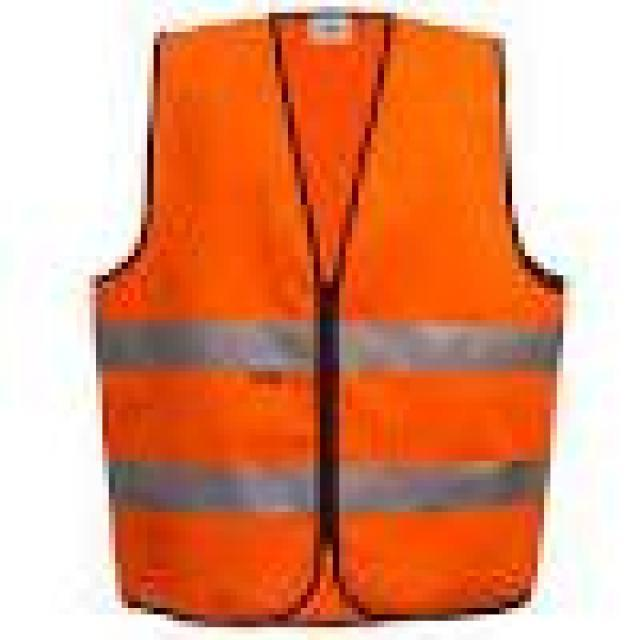reflective_jacket: (31, 0, 621, 639)
